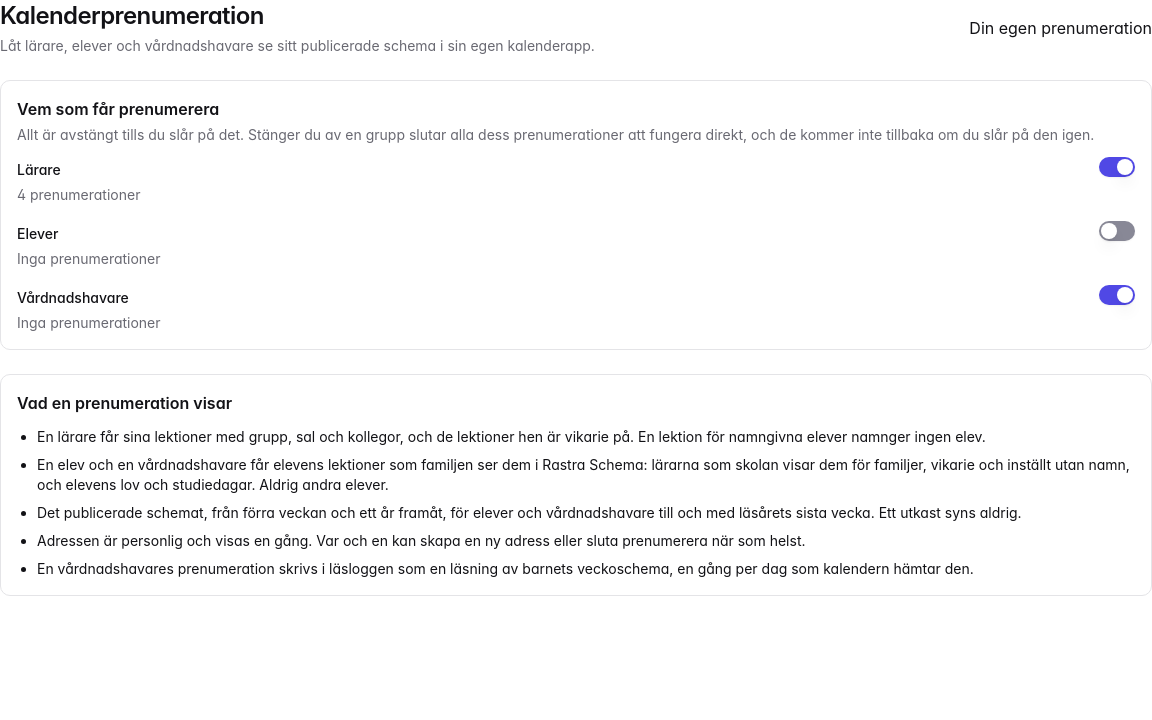
Test case: /admin/calendar-feeds › asks before stopping an audience the page counted none of, as someone may have made one since
Check: the text "Inga prenumerationer" is shown 2 times, box [17,249,161,269]; [17,313,161,333]
Click the 3rd switch named "Vårdnadshavare": {"x": 1117, "y": 295} [1099,285,1135,305]
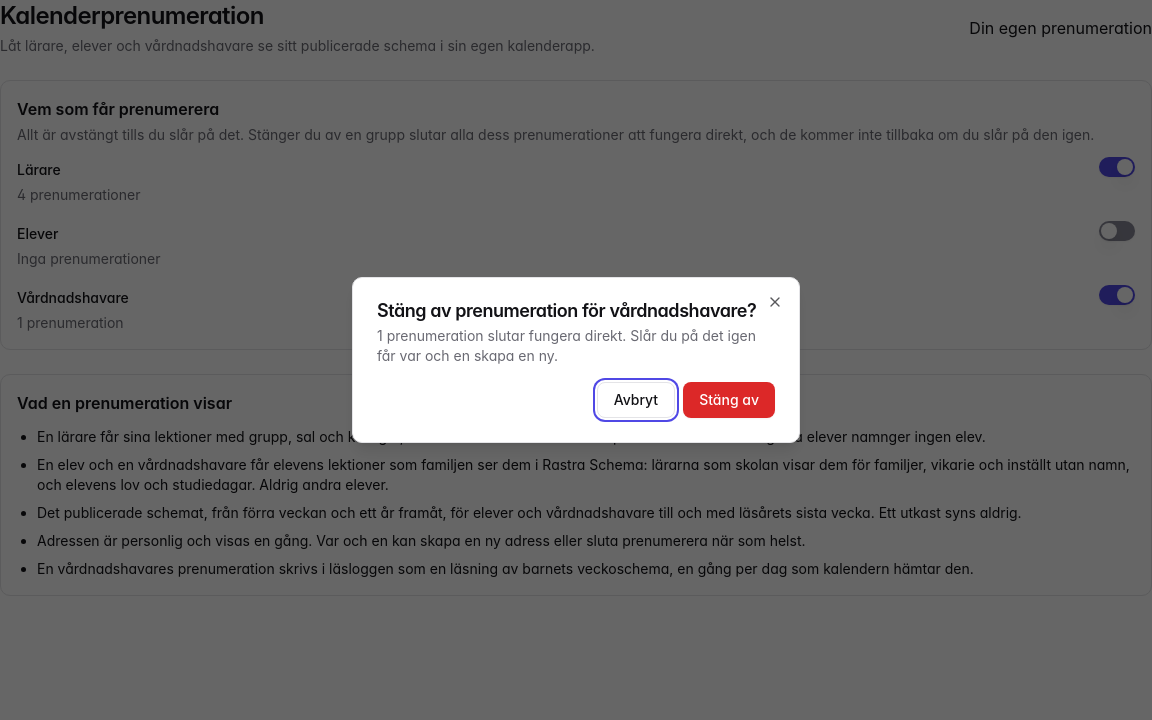
Check: the heading "Stäng av prenumeration för vårdnadshavare?" is shown, box [377,302,775,320]
Check: the text "1 prenumeration slutar fungera direkt" is shown, box [377,327,756,364]
